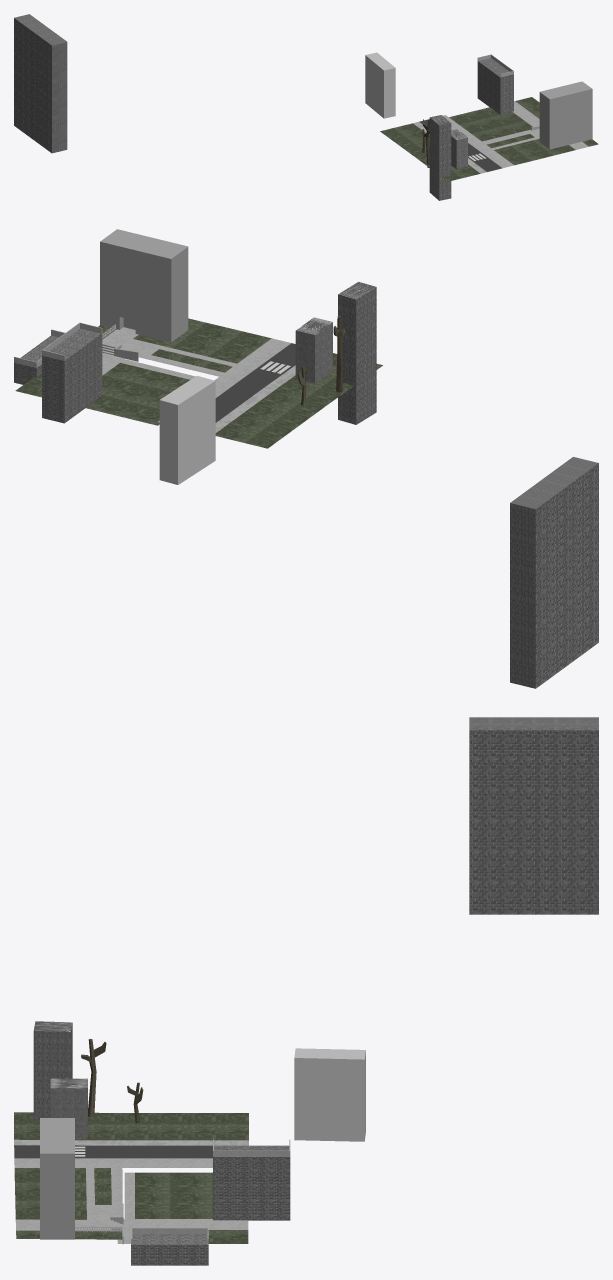
File: Scenery.fbx
3 renders of one model, top to bottom at view 1: azimuth 30°, elevation 25°; view 2: azimuth 150°, elevation 25°; view 3: azimuth 270°, elevation 25°, orthographic. The views are drawn at different scales.
Visible parts, largest first — view 1: Scene; view 2: Scene; view 3: Scene.
Boxes of the visible parts, bbox=[...] form: Scene: bbox=[14, 14, 598, 200]; Scene: bbox=[14, 229, 598, 688]; Scene: bbox=[14, 717, 598, 1265].
Bounding box in the file's own units: 1033 × 291 × 716.
